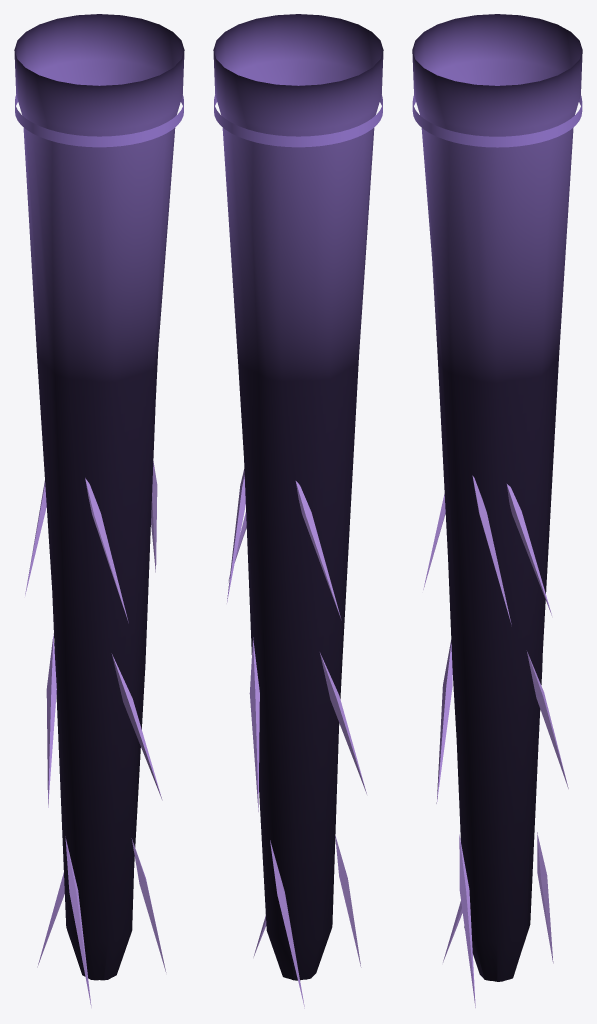
File: rift_base.glb
3 renders of one model, left to right at view 1: azimuth 30°, elevation 25°; view 2: azimuth 150°, elevation 25°; view 3: azimuth 270°, elevation 25°, orthographic.
Parts seen in each view (by area): view 1: rift_base, rift_base_glow; view 2: rift_base, rift_base_glow; view 3: rift_base, rift_base_glow.
Part boxes in pixels (x1,y1,x2,y2): rift_base: [14, 14, 184, 980]; rift_base_glow: [15, 95, 183, 1007]; rift_base: [213, 14, 383, 980]; rift_base_glow: [214, 95, 382, 1008]; rift_base: [412, 14, 582, 981]; rift_base_glow: [412, 95, 582, 1007].
Bounding box in the file's own units: 2 × 12.08 × 2.
